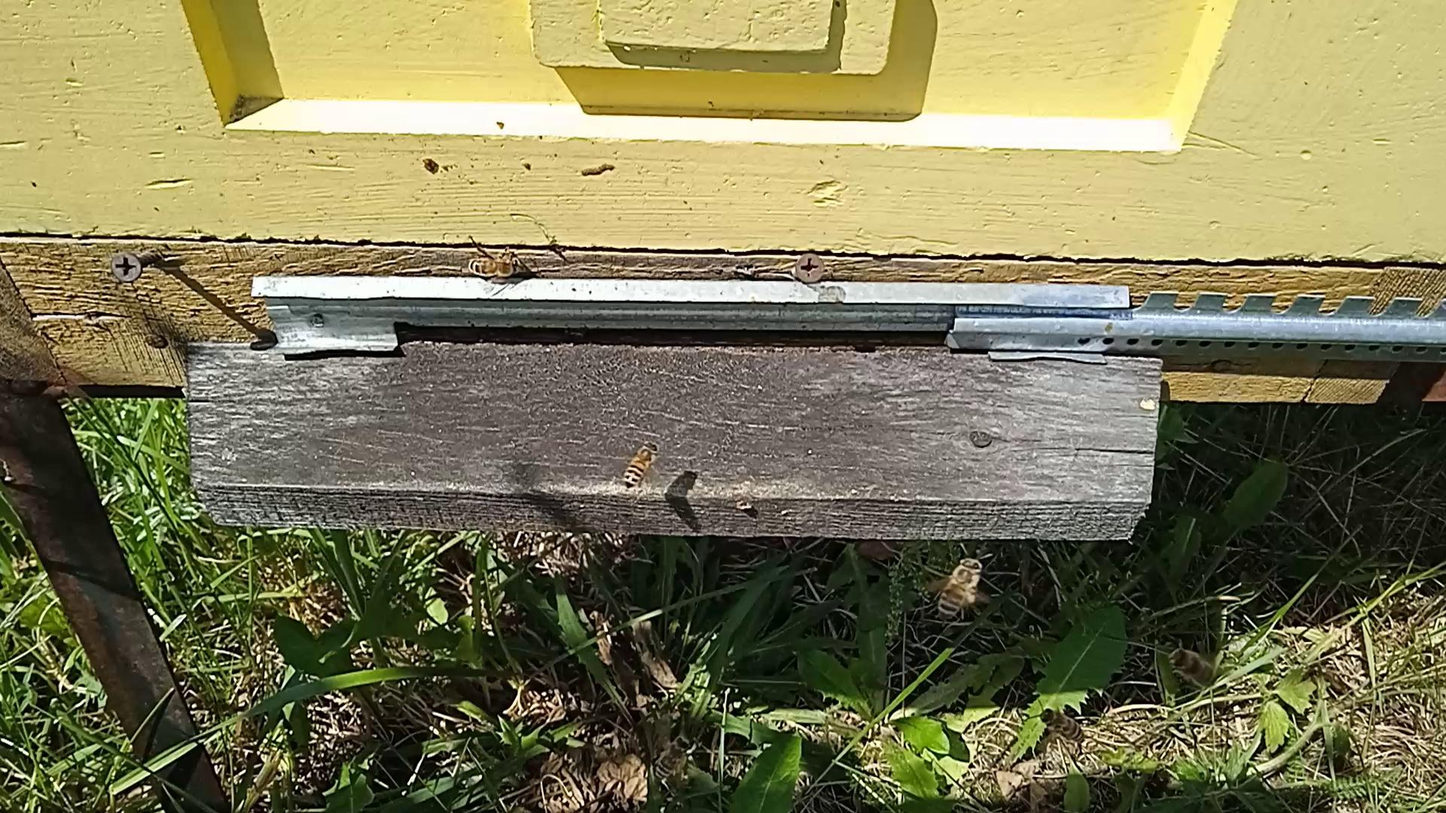worker-bee: (938, 556, 984, 622), (1170, 648, 1219, 688), (623, 440, 660, 489), (655, 735, 691, 780), (467, 251, 523, 279), (1039, 708, 1084, 741)
